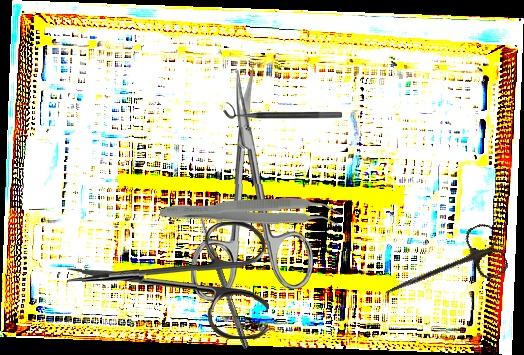Fixation Ring: (223, 102, 342, 119)
Iris Scissors: (187, 66, 314, 302), (65, 219, 271, 340), (376, 220, 511, 320)
Surgical Spoon: (194, 204, 251, 351)
Tissue Forceps: (159, 197, 342, 231)
